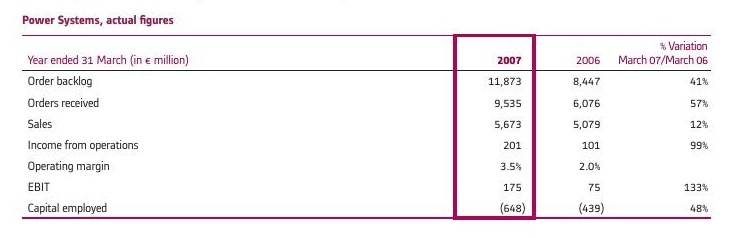table: (0, 0, 738, 238)
